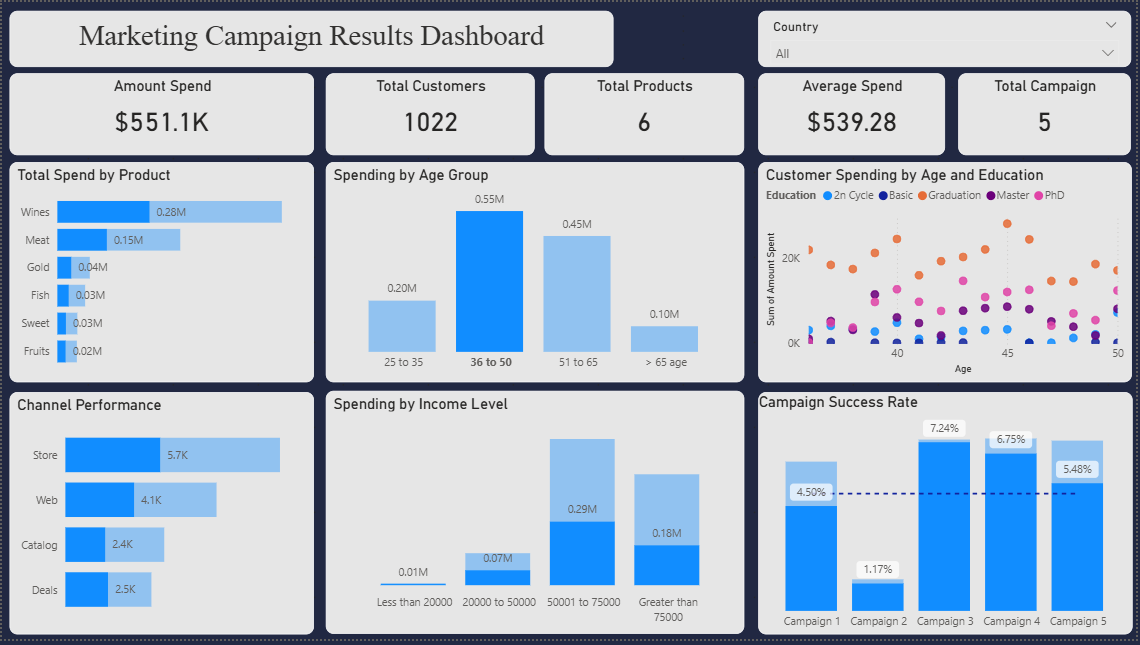

The page's visual inventory and layout, read from the dashboard file:
{"tool":"powerbi","page":{"name":"Page 1","canvas":[1280,720],"ordinal":0},"visuals":[{"type":"card","title":"Total Customers","fields":{"Values":["CountNonNull(marketing_data.ID)"]},"box":[363.6,79.6,234.6,91.9],"z":0},{"type":"card","title":"Total Products","fields":{"Values":["MarketingData.Total Products"]},"box":[609.3,79.6,223.7,91.9],"z":1000},{"type":"card","title":"Average Spend","fields":{"Values":["MarketingData.Avg Spend per Customer"]},"box":[848,79.6,209.9,91.9],"z":2000},{"type":"card","title":"Total Campaign","fields":{"Values":["MarketingData.Total Campaign"]},"box":[1073.1,79.6,193.5,91.9],"z":3000},{"type":"card","title":"Amount Spend  ","fields":{"Values":["MarketingData.Total Revenue"]},"box":[8.2,79.6,341.7,91.9],"z":4000},{"type":"barChart","title":"Total Spend by Product","fields":{"Y":["Products.Total Spend by Product"],"Category":["Products.Product"]},"box":[8.2,179.8,341.7,247],"z":5000},{"type":"barChart","title":"Channel Performance","fields":{"Y":["Channels.Total by Channel"],"Category":["Channels.Channel"]},"box":[8.2,437.7,341.7,271.7],"z":6000},{"type":"textbox","box":[8.2,9.6,677.9,63.1],"z":7000},{"type":"columnChart","title":"Spending by Age Group","fields":{"Y":["MarketingData.Amount Spent"],"Category":["MarketingData.Age Group"]},"box":[363.6,179.8,469.3,247],"z":8000},{"type":"columnChart","title":"Spending by Income Level","fields":{"Y":["MarketingData.Amount Spent"],"Category":["MarketingData.Income brackets"]},"box":[363.6,436.4,469.3,273.1],"z":9000},{"type":"scatterChart","title":"Customer Spending by Age and Education","fields":{"Y":["Sum(MarketingData.Amount Spent )"],"X":["MarketingData.Age"],"Series":["MarketingData.Education"]},"box":[847.7,180,419.2,246.9],"z":10000},{"type":"lineStackedColumnComboChart","title":"Campaign Success Rate","fields":{"Category":["Campaigns.Campaign"],"Y":["Campaigns.Campaign Success Rate"],"Y2":["Campaigns.Overall Campaign Success Rate"]},"box":[848,437.7,419.9,271.7],"z":11000},{"type":"slicer","fields":{"Values":["MarketingData.Country"]},"box":[848,9.6,418.5,63.1],"z":12000}]}

Visuals, with their boxes in screenshot pixels (x1, y1, x2, y2), scaled from the page's 1280x720 canvas onto the 1140x645 screenshot:
"Total Customers" card: {"left": 324, "top": 71, "right": 533, "bottom": 154}
"Total Products" card: {"left": 543, "top": 71, "right": 742, "bottom": 154}
"Average Spend" card: {"left": 755, "top": 71, "right": 942, "bottom": 154}
"Total Campaign" card: {"left": 956, "top": 71, "right": 1128, "bottom": 154}
"Amount Spend  " card: {"left": 7, "top": 71, "right": 312, "bottom": 154}
"Total Spend by Product" barChart: {"left": 7, "top": 161, "right": 312, "bottom": 382}
"Channel Performance" barChart: {"left": 7, "top": 392, "right": 312, "bottom": 636}
textbox: {"left": 7, "top": 9, "right": 611, "bottom": 65}
"Spending by Age Group" columnChart: {"left": 324, "top": 161, "right": 742, "bottom": 382}
"Spending by Income Level" columnChart: {"left": 324, "top": 391, "right": 742, "bottom": 636}
"Customer Spending by Age and Education" scatterChart: {"left": 755, "top": 161, "right": 1128, "bottom": 382}
"Campaign Success Rate" lineStackedColumnComboChart: {"left": 755, "top": 392, "right": 1129, "bottom": 636}
slicer - MarketingData.Country: {"left": 755, "top": 9, "right": 1128, "bottom": 65}
